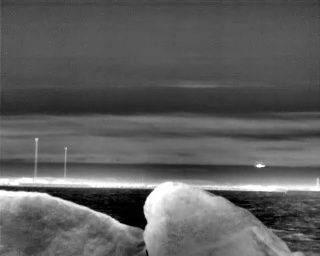HELICOPTER: (253, 160, 269, 173)
